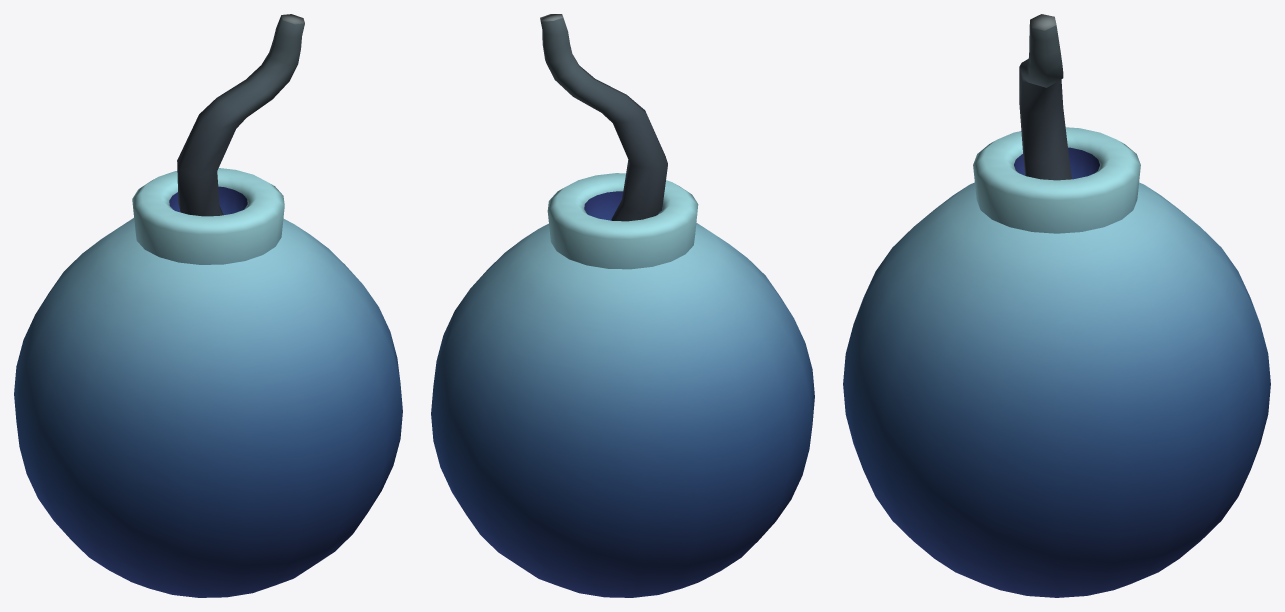
Rendered from Trap_Frost.fbx.
3 views of the same model, side by side, from view 1: azimuth 30°, elevation 25°; view 2: azimuth 150°, elevation 25°; view 3: azimuth 270°, elevation 25° (orthographic). The views are drawn at different scales.
Visible parts, largest first — view 1: Trap_Frost; view 2: Trap_Frost; view 3: Trap_Frost.
Boxes of the visible parts, x1,y1,x2,y2 form: Trap_Frost: (14, 14, 402, 597); Trap_Frost: (431, 14, 814, 597); Trap_Frost: (843, 14, 1270, 597).
Size of the model in its own units: 1.57 by 2.43 by 1.57.
